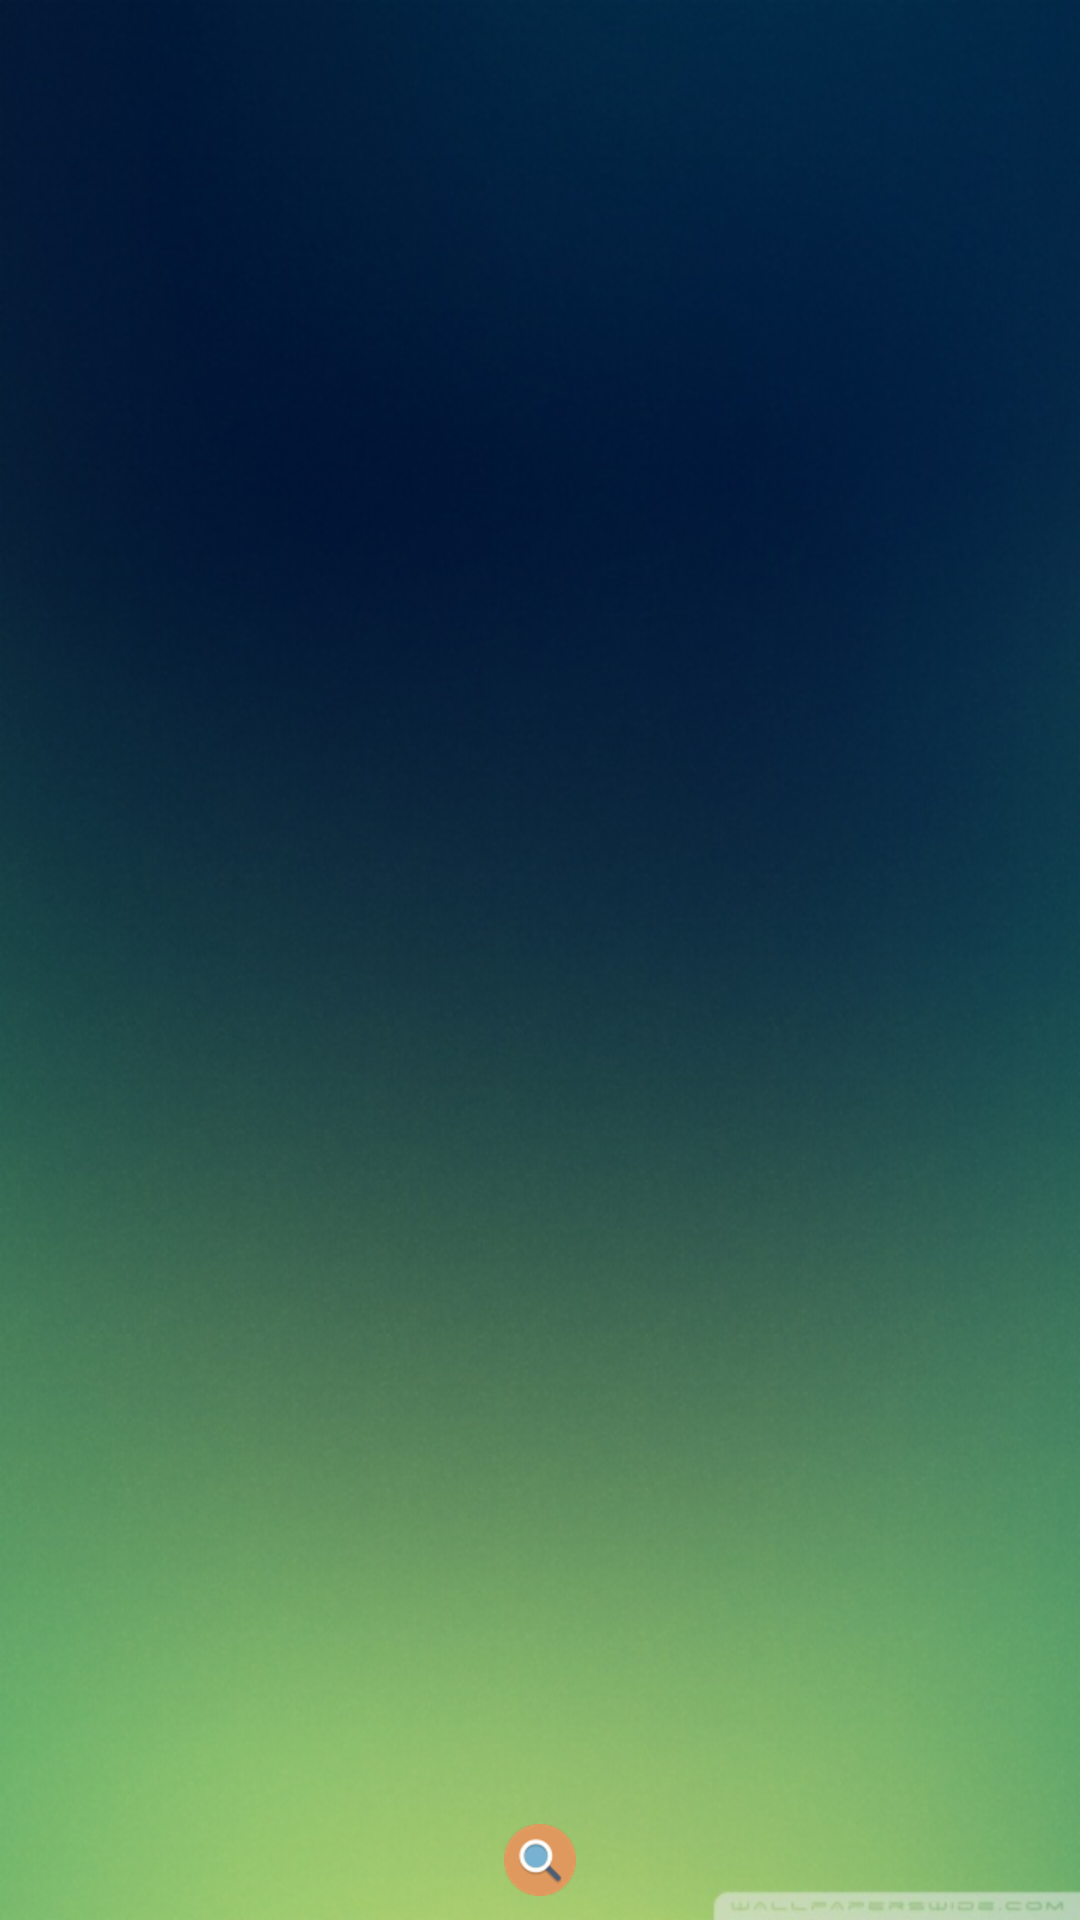

Icon bounding boxes for this 1080x1920 phone screenshot, format Rect(x1, y1, x2, y2):
search: Rect(504, 1824, 576, 1896)
